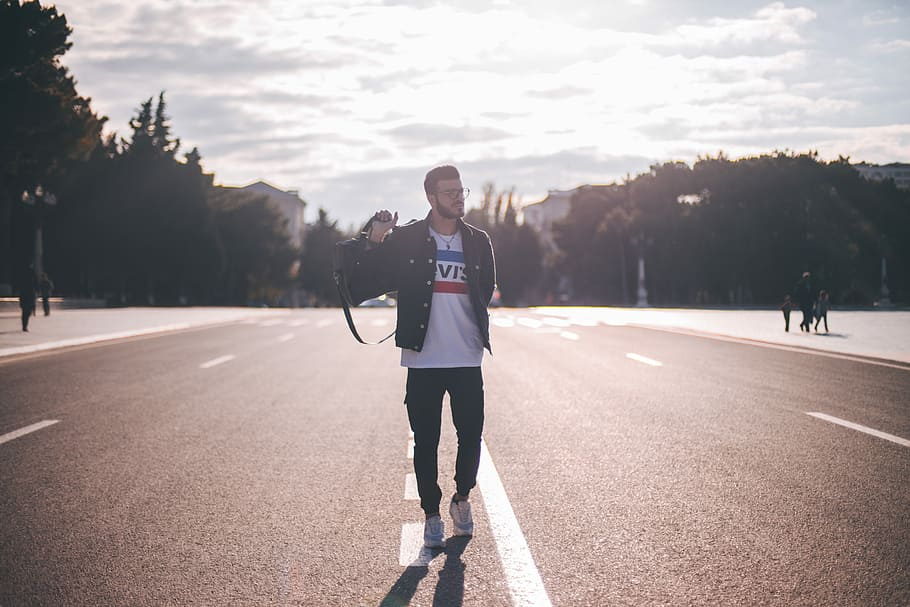Person: (320, 164, 529, 551)
